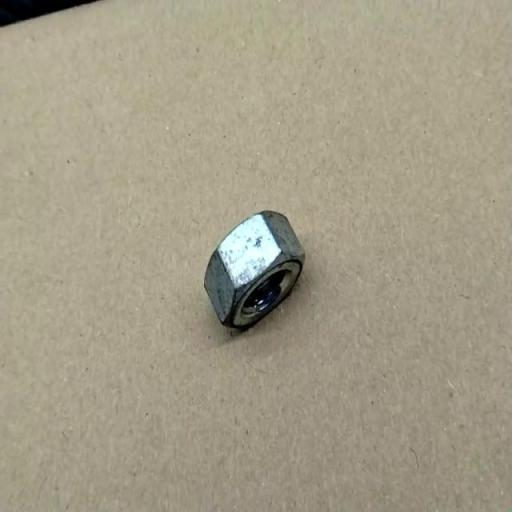Nut: (203, 210, 305, 333)
